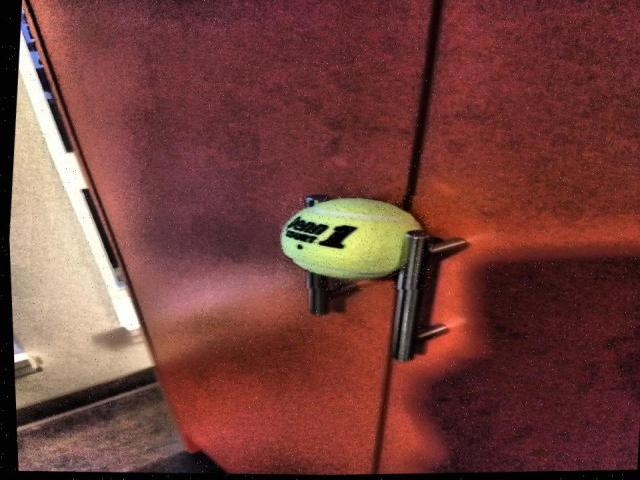tennis-ball: (281, 197, 424, 281)
